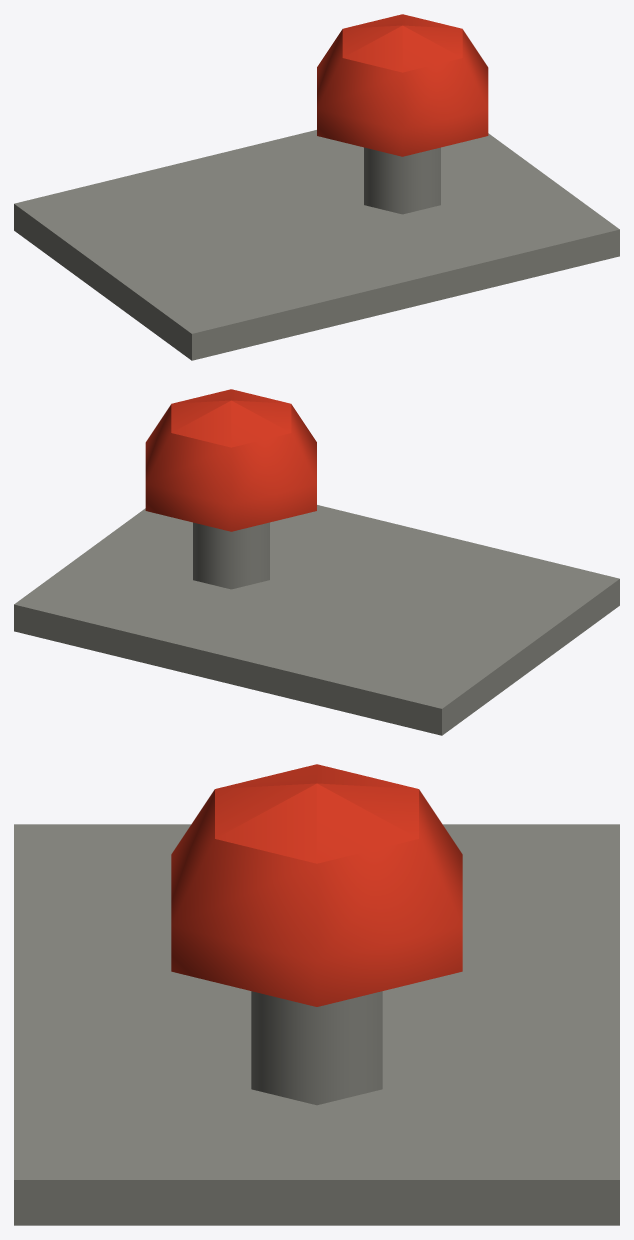
Rendered from refuge100_beacon.obj.
The picture shows the model from 3 angles, top to bottom: view 1: azimuth 30°, elevation 25°; view 2: azimuth 150°, elevation 25°; view 3: azimuth 270°, elevation 25°; orthographic projection. The views are drawn at different scales.
Parts seen in each view (by area): view 1: refuge100_beacon; view 2: refuge100_beacon; view 3: refuge100_beacon.
Part boxes in pixels (<box>): refuge100_beacon: <box>14,14,619,360</box>; refuge100_beacon: <box>14,389,619,735</box>; refuge100_beacon: <box>14,764,619,1225</box>.
Bounding box in the file's own units: 0.5 × 0.22 × 0.36.
